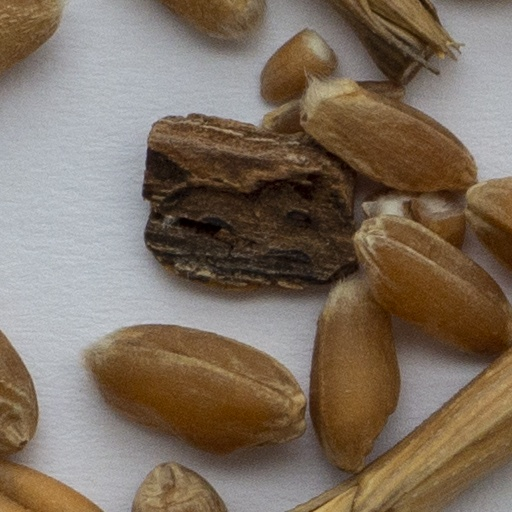Peel-poly: (143, 115, 354, 288), (305, 349, 511, 511), (337, 0, 459, 81)
Wheat-grain-damaged-poly: (255, 30, 342, 106)
